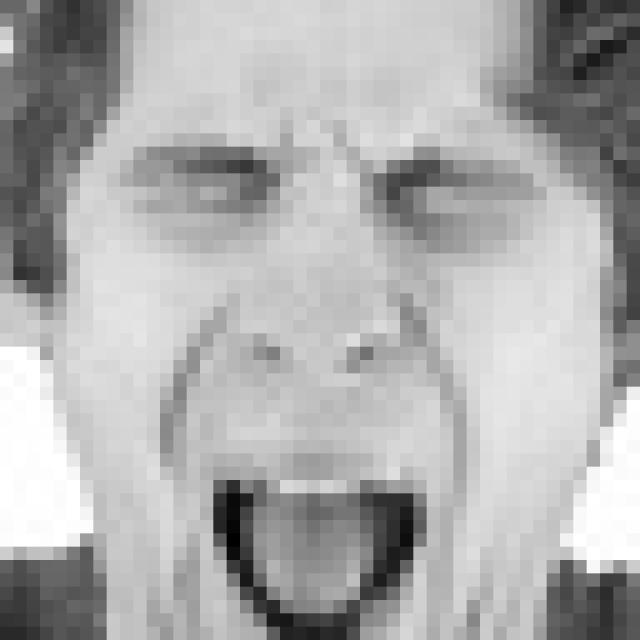angry: (114, 129, 547, 640)
